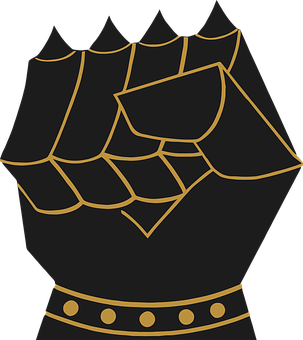fist: (4, 36, 279, 245)
